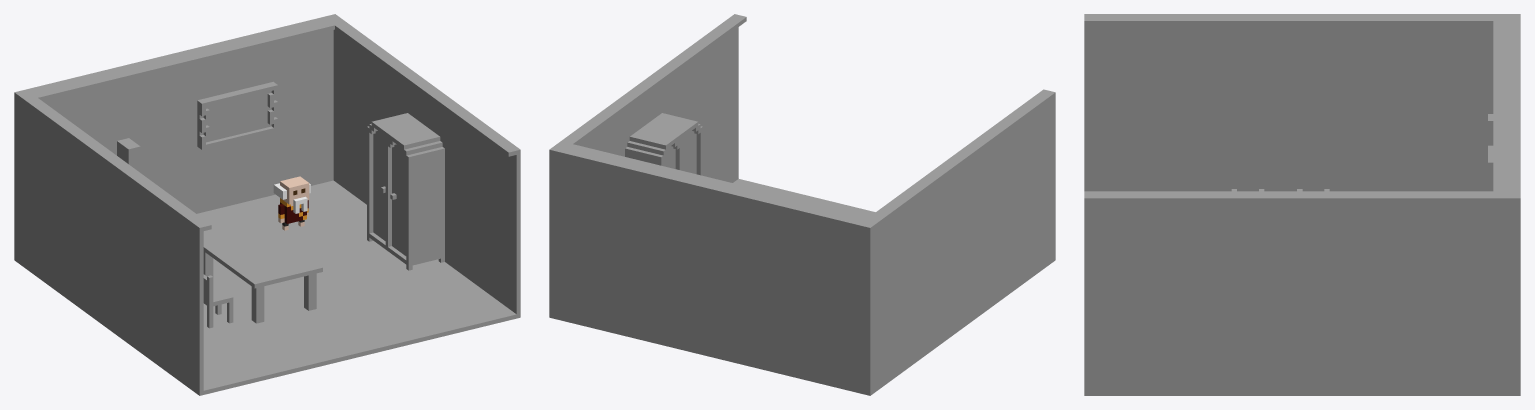
The model's file is Testraum.fbx.
The picture shows the model from 3 angles, left to right: view 1: azimuth 30°, elevation 25°; view 2: azimuth 150°, elevation 25°; view 3: azimuth 270°, elevation 25°; orthographic projection. The views are drawn at different scales.
Parts seen in each view (by area): view 1: testraum_80x80x40; view 2: testraum_80x80x40; view 3: testraum_80x80x40.
Boxes of the visible parts, left/top/right/bottom form: testraum_80x80x40: left=14, top=14, right=520, bottom=395; testraum_80x80x40: left=549, top=14, right=1055, bottom=395; testraum_80x80x40: left=1084, top=14, right=1520, bottom=395.
Bounding box in the file's own units: 80 × 40 × 80.
Materials: 1 (1 with a texture image).
